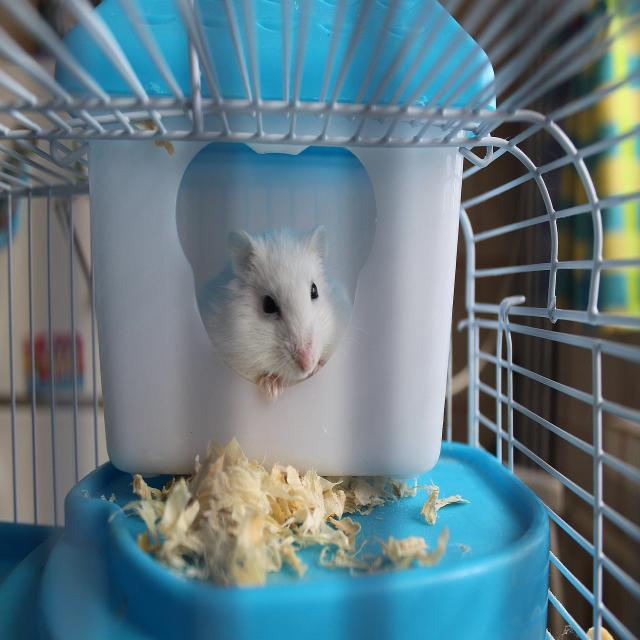hamster: (204, 224, 350, 402)
